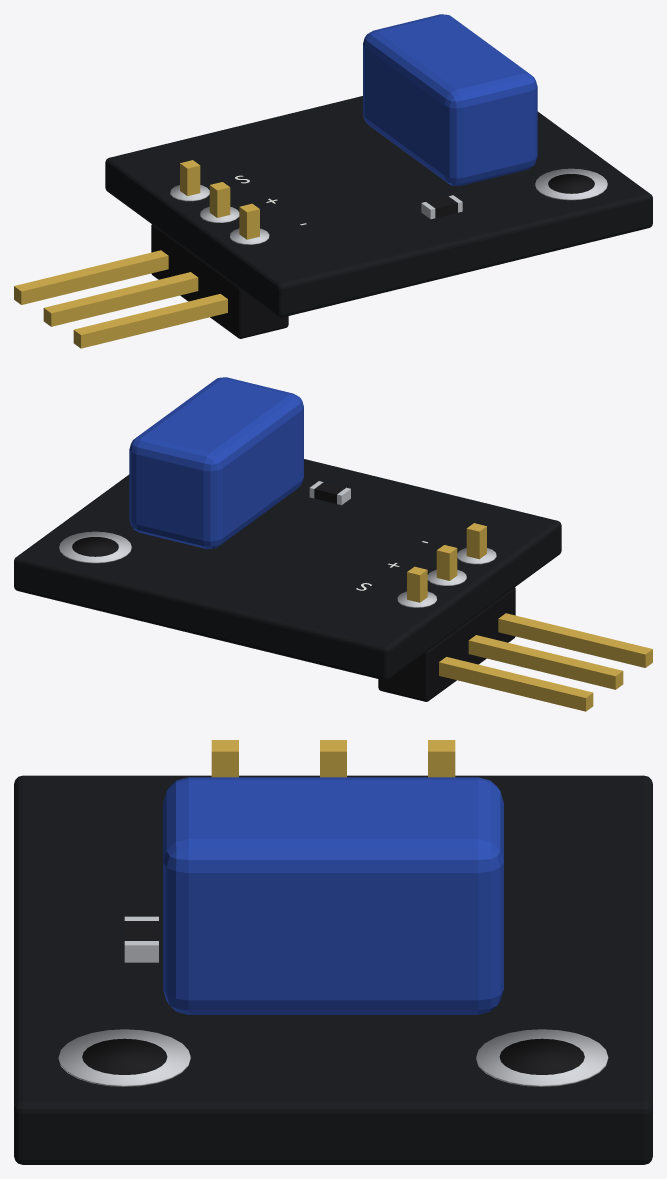
File: tilt-switch.glb
3 views of the same model, one above another, from view 1: azimuth 30°, elevation 25°; view 2: azimuth 150°, elevation 25°; view 3: azimuth 270°, elevation 25° (orthographic). The views are drawn at different scales.
Parts seen in each view (by area): view 1: pcb.008, part.041, header.008, pin_h.025, pin_h.024, pin_h.026, hole_ring.017, hole.017, pin_v.025, pin_v.026, pin_v.024; view 2: pcb.008, part.041, header.008, pin_h.025, pin_h.026, pin_h.024, hole_ring.016, hole.016, pin_v.025, pin_v.024, pin_v.026; view 3: pcb.008, part.041, hole_ring.016, hole_ring.017, hole.016, hole.017, pin_v.024, pin_v.026, pin_v.025, smd_cap.017, smd.008.
Boxes of the visible parts, x1,y1,x2,y2 form: pcb.008: (105,96,652,317); part.041: (363,14,537,185); header.008: (151,224,288,338); pin_h.025: (43,272,198,326); pin_h.024: (14,250,168,304); pin_h.026: (73,294,227,348); hole_ring.017: (535,168,607,200); hole.017: (548,174,594,193); pin_v.025: (209,182,230,217); pin_v.026: (239,203,259,239); pin_v.024: (180,160,200,196); pcb.008: (14,459,561,680); part.041: (129,377,303,548); header.008: (378,587,515,701); pin_h.025: (468,635,623,689); pin_h.026: (498,613,652,667); pin_h.024: (439,657,593,711); hole_ring.016: (59,531,131,563); hole.016: (72,537,118,556); pin_v.025: (436,545,457,580); pin_v.024: (407,566,427,602); pin_v.026: (466,523,486,559); pcb.008: (14,775,652,1164); part.041: (163,777,503,1014); hole_ring.016: (476,1029,608,1086); hole_ring.017: (58,1029,190,1086); hole.016: (499,1038,584,1074); hole.017: (82,1038,167,1074); pin_v.024: (428,740,455,777); pin_v.026: (211,740,238,777); pin_v.025: (320,740,346,777); smd_cap.017: (124,941,158,962); smd.008: (124,921,158,940).
Size of the model in its own units: 0.0256 by 0.0091 by 0.015.
